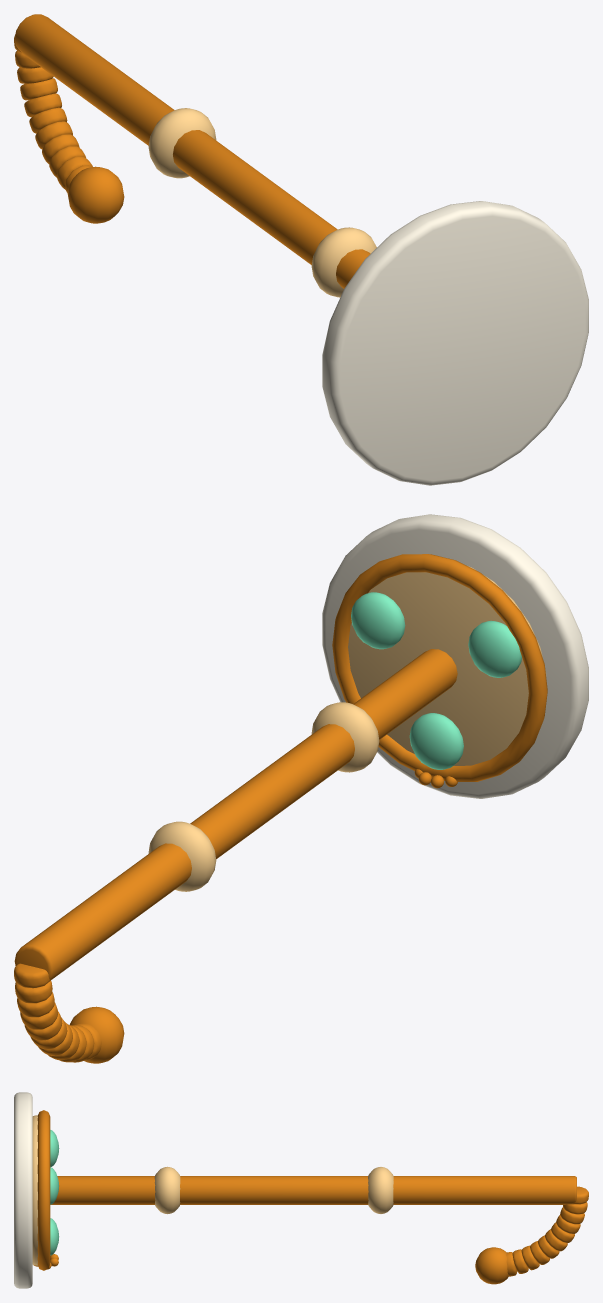
Rendered from BalconyBirdFeeder_Premium.fbx.
3 renders of one model, top to bottom at view 1: azimuth 30°, elevation 25°; view 2: azimuth 150°, elevation 25°; view 3: azimuth 270°, elevation 25°, orthographic. The views are drawn at different scales.
Parts seen in each view (by area): view 1: BalconyBirdFeeder; view 2: BalconyBirdFeeder; view 3: BalconyBirdFeeder.
Part boxes in pixels (left/top/right/bottom): BalconyBirdFeeder: left=14, top=14, right=588, bottom=485; BalconyBirdFeeder: left=14, top=514, right=588, bottom=1063; BalconyBirdFeeder: left=14, top=1092, right=588, bottom=1288.
Size of the model in its own units: 0.4566 by 0.469 by 1.35.
